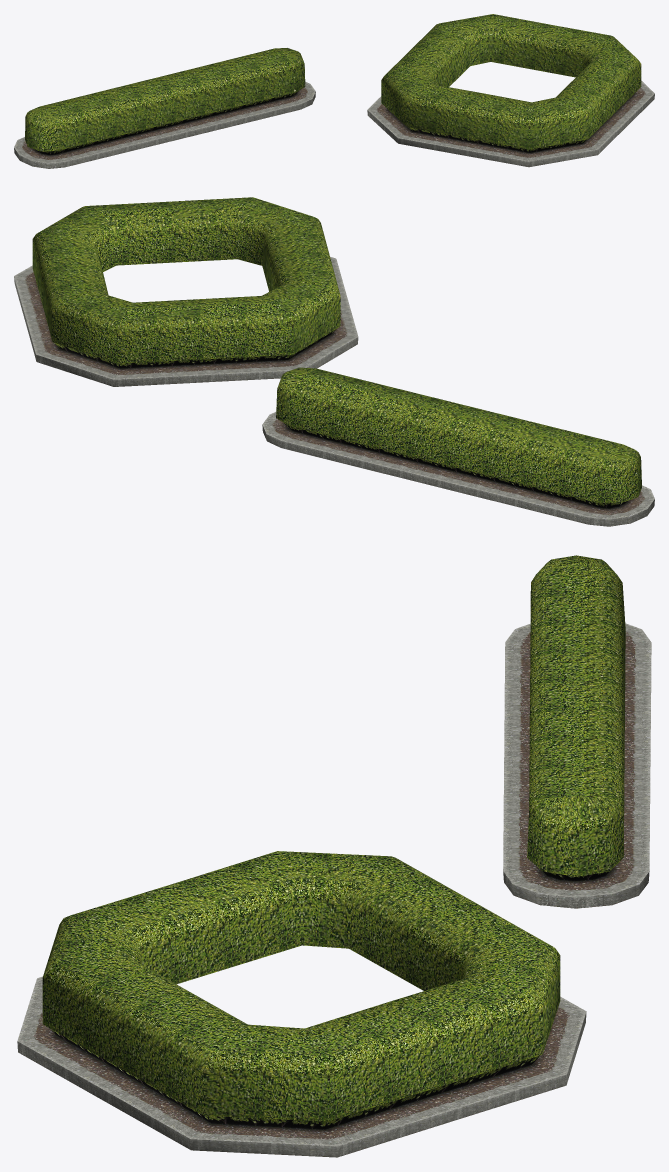
The model's file is lvhuadai_edit.fbx.
3 views of the same model, one above another, from view 1: azimuth 30°, elevation 25°; view 2: azimuth 150°, elevation 25°; view 3: azimuth 270°, elevation 25° (orthographic). The views are drawn at different scales.
Visible parts, largest first — view 1: lvhuadai2, lvhuadai1; view 2: lvhuadai2, lvhuadai1; view 3: lvhuadai2, lvhuadai1.
Part boxes in pixels (left/top/right/bottom): lvhuadai2: left=367, top=14, right=654, bottom=167; lvhuadai1: left=14, top=48, right=315, bottom=168; lvhuadai2: left=14, top=197, right=358, bottom=386; lvhuadai1: left=262, top=367, right=654, bottom=526; lvhuadai2: left=17, top=851, right=586, bottom=1157; lvhuadai1: left=503, top=555, right=651, bottom=908.
Bounding box in the file's own units: 18.52 × 1.46 × 9.32.
